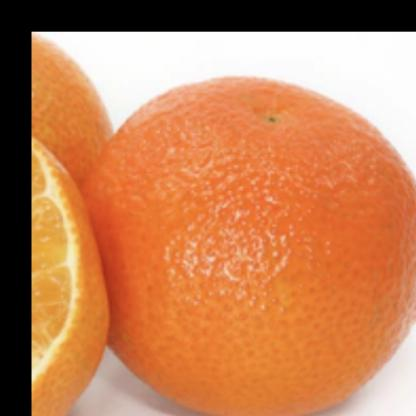fresh: (38, 78, 416, 416)
